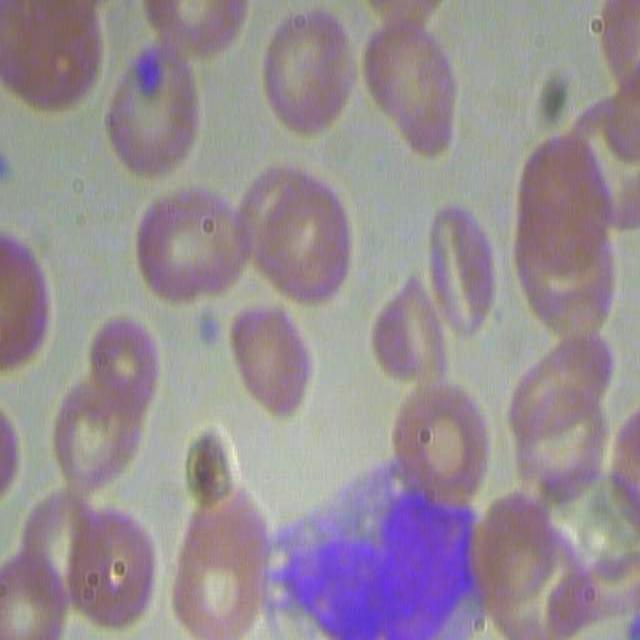RBC: (507, 134, 623, 342), (471, 492, 611, 640), (503, 339, 614, 525), (230, 155, 353, 310), (31, 489, 164, 628), (104, 5, 202, 183), (584, 0, 639, 286), (361, 10, 462, 159), (135, 181, 252, 308), (167, 497, 266, 639), (260, 5, 354, 140), (389, 382, 488, 507), (0, 0, 98, 115), (371, 279, 460, 397), (424, 206, 501, 339), (48, 378, 138, 490), (233, 304, 317, 418), (0, 220, 52, 378), (89, 314, 162, 411), (142, 0, 251, 62), (0, 550, 63, 638), (0, 400, 43, 495)
WBC: (284, 492, 507, 640)
platelets: (126, 41, 166, 106), (196, 313, 223, 349)
